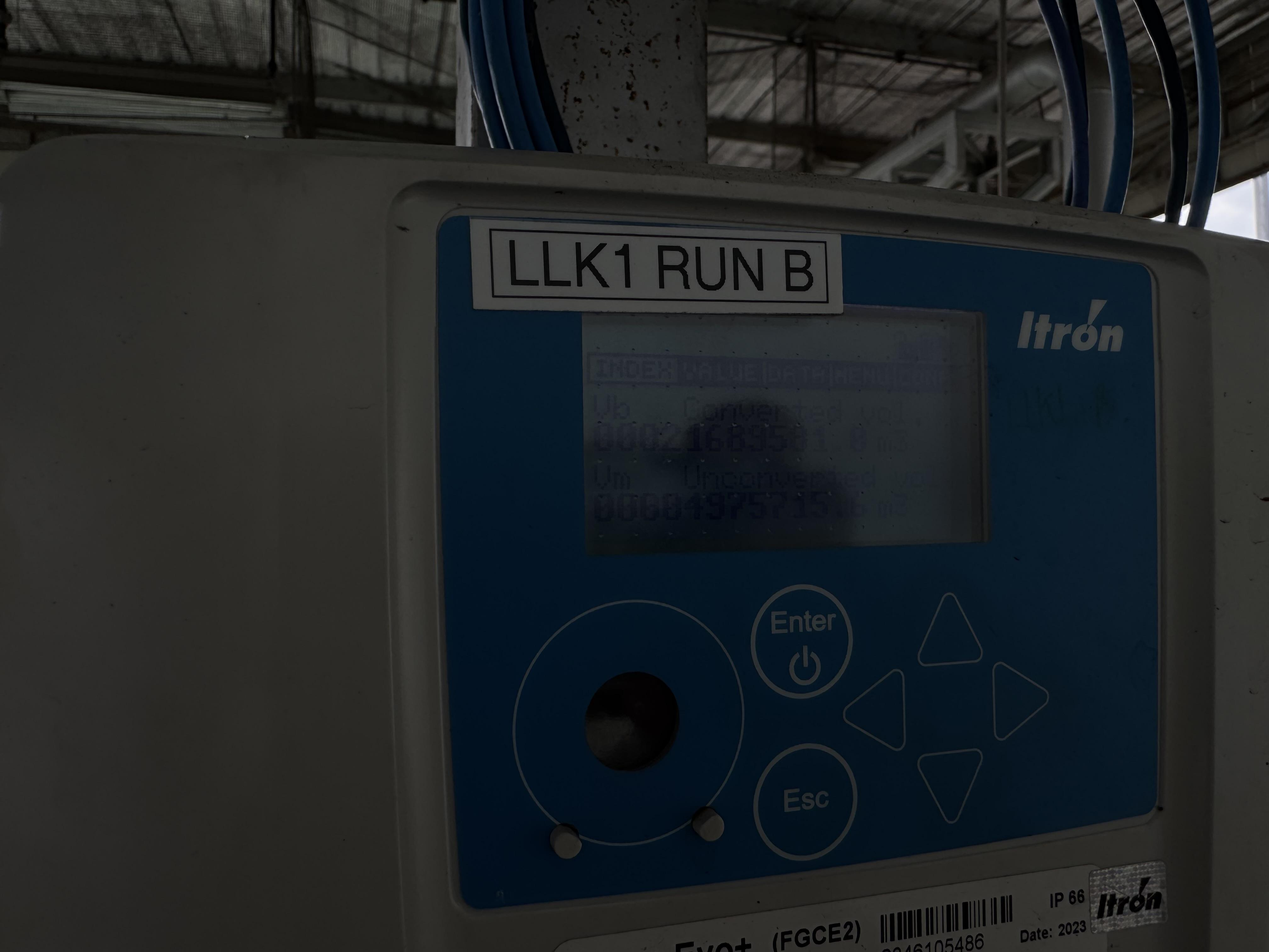digital_screen: (580, 288, 991, 556)
